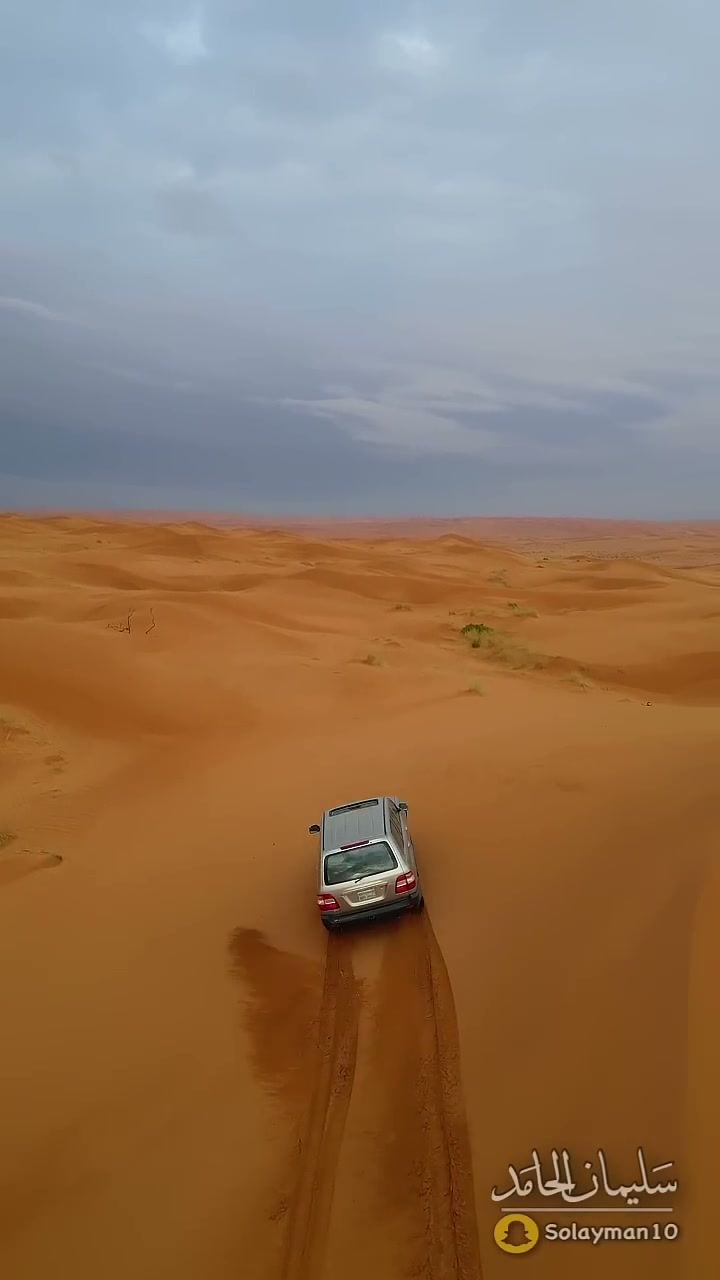vehicle_track: (281, 936, 359, 1279), (417, 916, 481, 1279)
